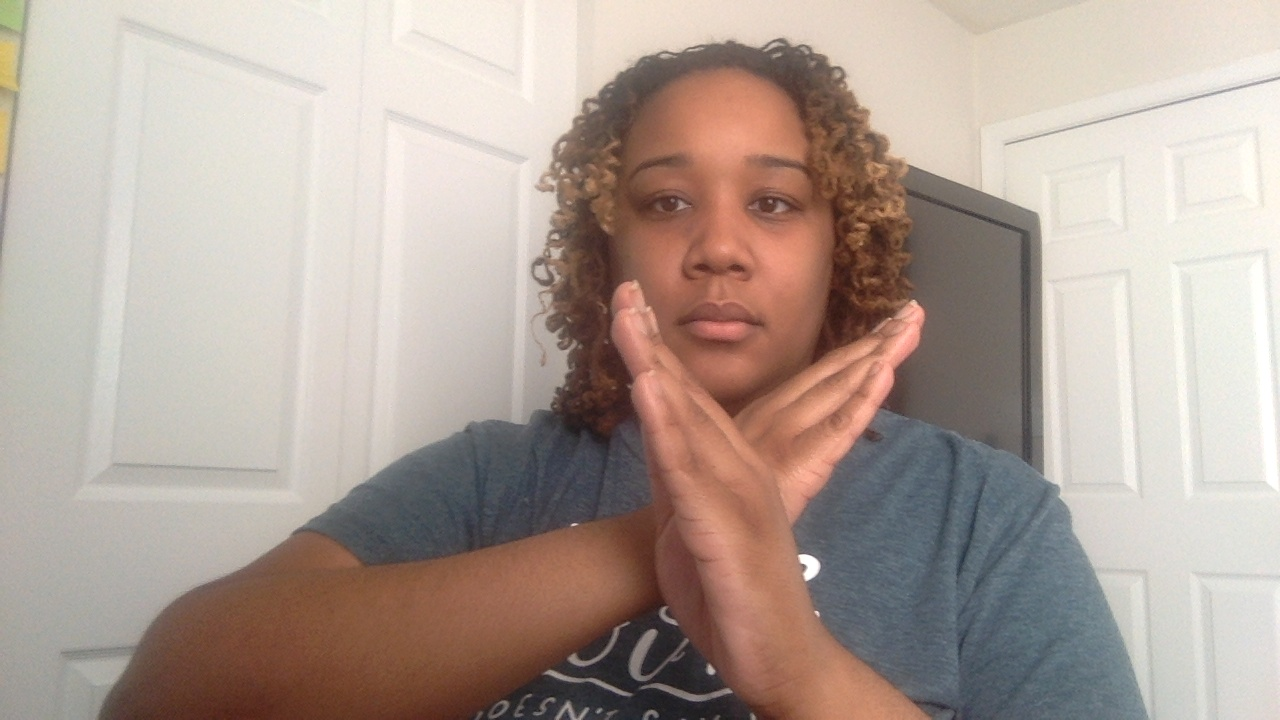quiet: (600, 274, 947, 716)
